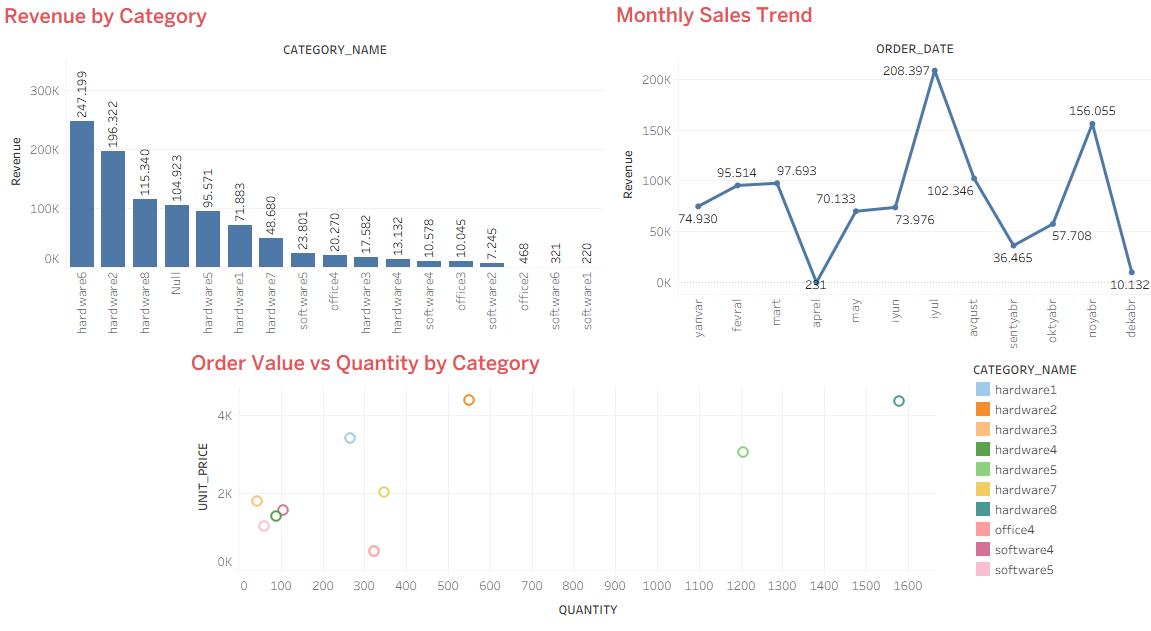

The dashboard page shown, as its layout file describes it:
{"tool":"tableau","page":{"name":"Dashboard 1","canvas":[1000,1000],"units":"permille","ordinal":0},"visuals":[{"type":"worksheet","title":"Sheet 2","mark":"Line","rows":["Calculation_1653962546786305"],"cols":["ORDER_DATE"],"box":[531.6,0,466.7,561.7]},{"type":"worksheet","title":"Sheet 1","mark":"Automatic","rows":["Calculation_1653962546786305"],"cols":["CATEGORY_NAME"],"box":[1.7,1.6,522.1,549.1]},{"type":"worksheet","title":"Sheet 3","mark":"Automatic","rows":["UNIT_PRICE"],"cols":["QUANTITY"],"box":[163.6,550.6,649.4,439.9]},{"type":"legend","title":"Sheet 3","param":"[federated.03lsg6a0mfvyrv1123wb104a9hk3].[none:CATEGORY_NAME:nk]","box":[844.2,572.8,122.9,363.9]}]}

Visuals, with their boxes on the dashboard's canvas, which has no fixed pixel size, in thousandths of its width and height (x1, y1, x2, y2). These are canvas units, not pixel positions in the 1151x631 screenshot, which may show the page scaled, cropped or inside an application window:
"Sheet 2" worksheet (Line marks): 532/0/998/562
"Sheet 1" worksheet: 2/2/524/551
"Sheet 3" worksheet: 164/551/813/990
"Sheet 3" legend: 844/573/967/937
